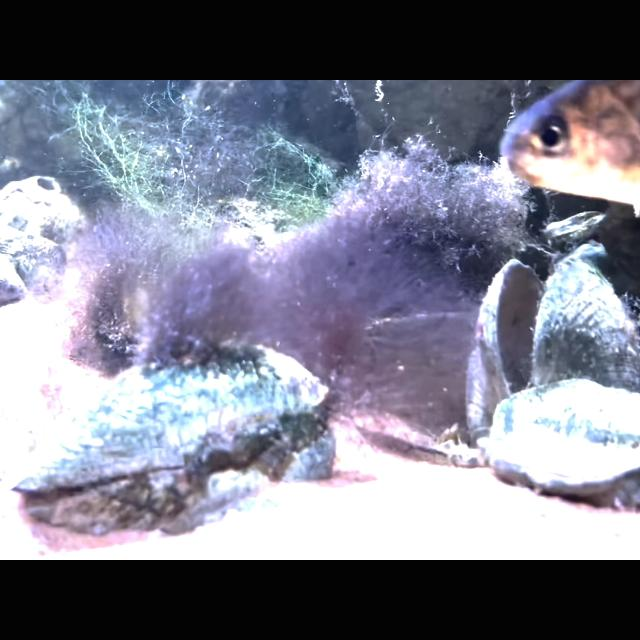Oyster-Closed: (482, 378, 640, 498)
Oyster-Open: (13, 340, 335, 538), (464, 253, 640, 461)
